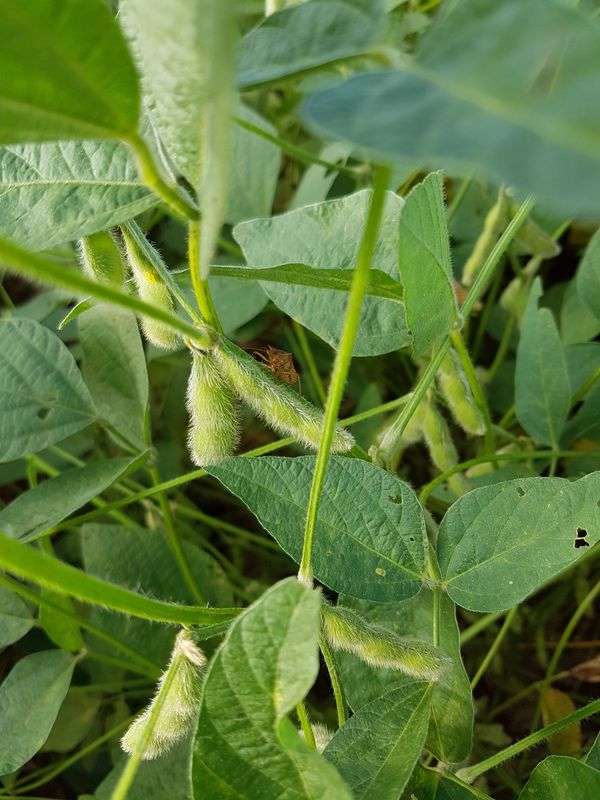Euschistus_heros_adulto: (248, 342, 307, 401)
